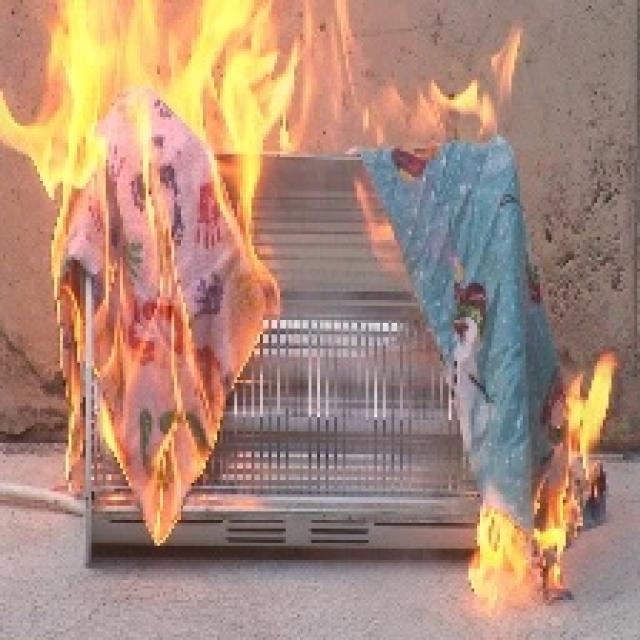Fire: (0, 0, 283, 557), (460, 357, 622, 606), (288, 2, 521, 146)
